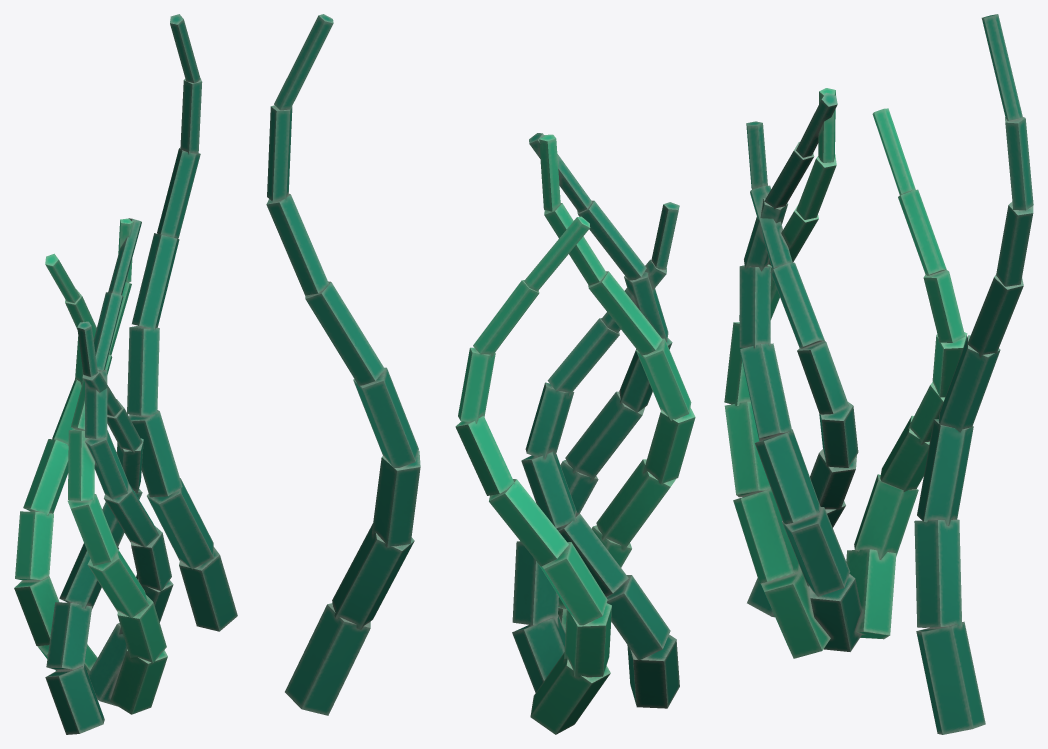
File: mu_seaweed.fbx
3 views of the same model, side by side, from view 1: azimuth 30°, elevation 25°; view 2: azimuth 150°, elevation 25°; view 3: azimuth 270°, elevation 25° (orthographic). The views are drawn at different scales.
Parts seen in each view (by area): view 1: mu_seaweed; view 2: mu_seaweed; view 3: mu_seaweed.
Boxes of the visible parts, x1=… form: mu_seaweed: x1=14, y1=14, x2=237, y2=734; mu_seaweed: x1=266, y1=14, x2=695, y2=734; mu_seaweed: x1=724, y1=14, x2=1033, y2=734.
Bounding box in the file's own units: 1.57 × 3.6 × 1.42.
2 materials, 2 textured.
